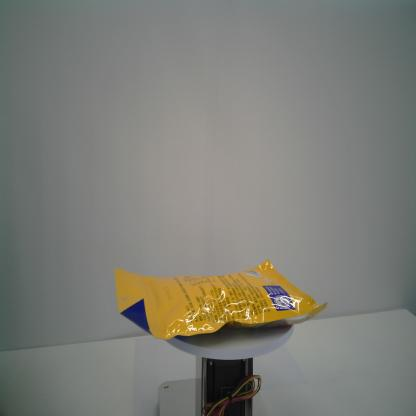Dried Fruit: (114, 258, 328, 339)
